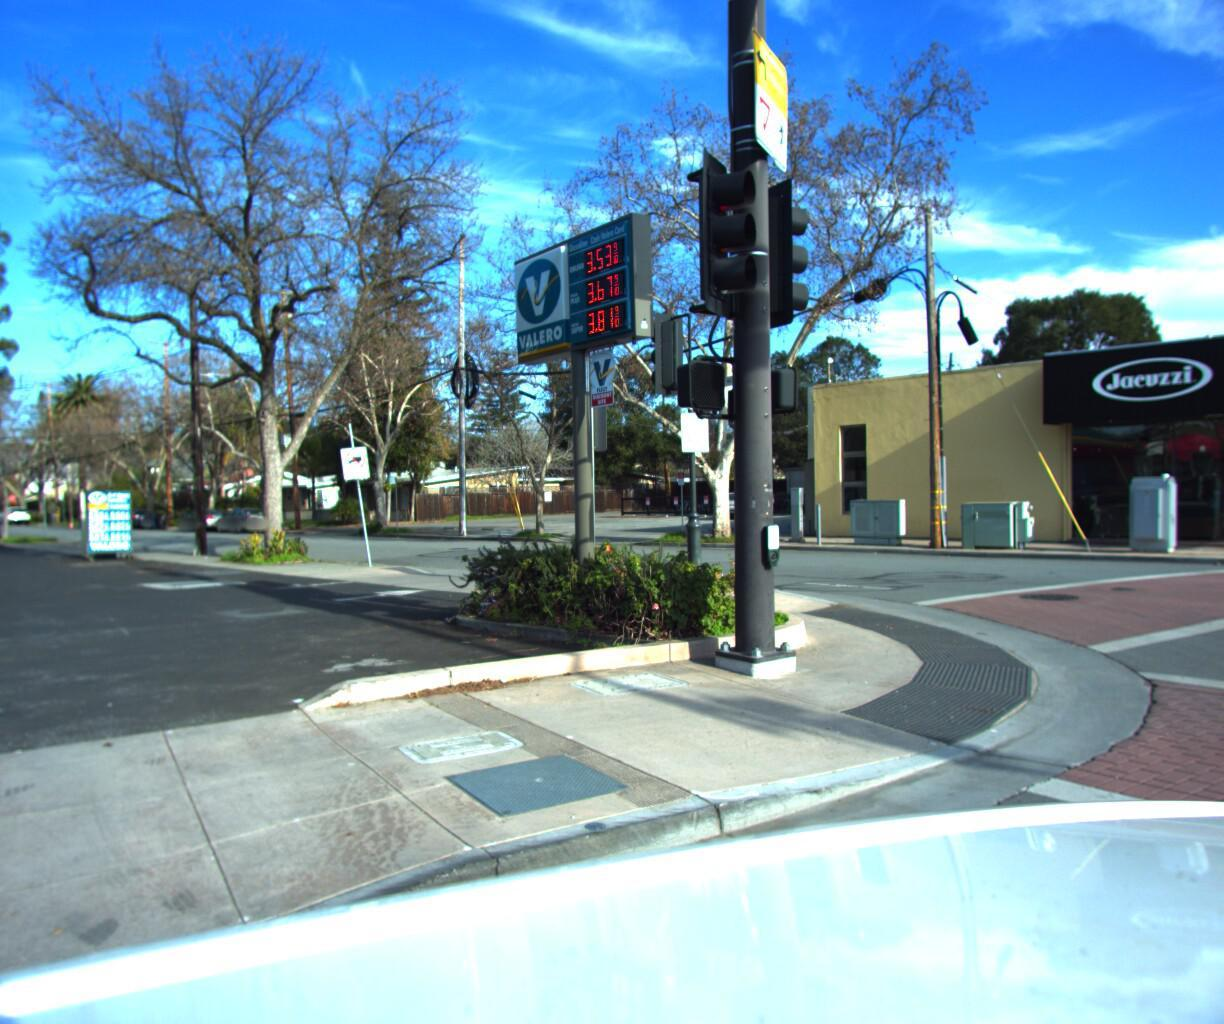car: (215, 504, 283, 534), (179, 505, 241, 534), (110, 506, 161, 530)
